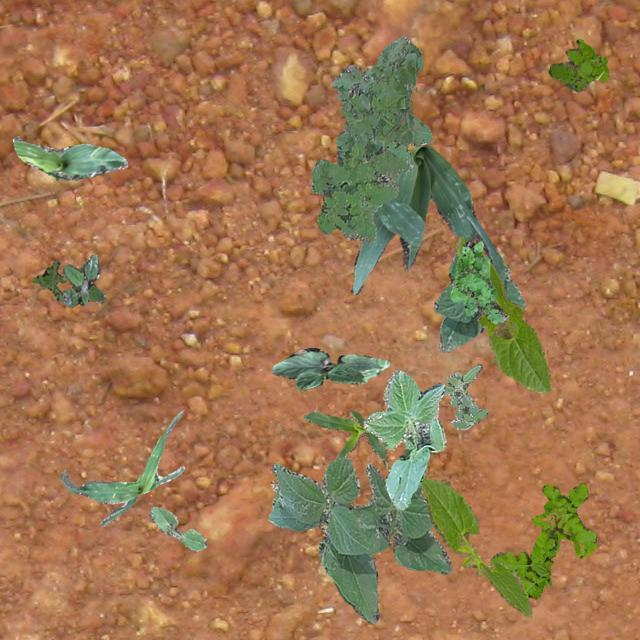crop: (268, 457, 450, 622), (349, 144, 504, 294), (419, 476, 532, 616), (456, 235, 550, 392), (60, 410, 184, 526), (362, 369, 444, 508), (432, 244, 524, 352), (12, 134, 126, 180), (271, 346, 388, 389), (303, 410, 387, 468), (147, 506, 205, 550), (360, 68, 370, 84), (366, 410, 384, 418)
weed: (310, 35, 432, 242), (490, 482, 596, 598), (448, 240, 508, 322), (548, 38, 608, 90), (442, 362, 487, 428), (62, 254, 105, 306), (31, 260, 66, 300)
